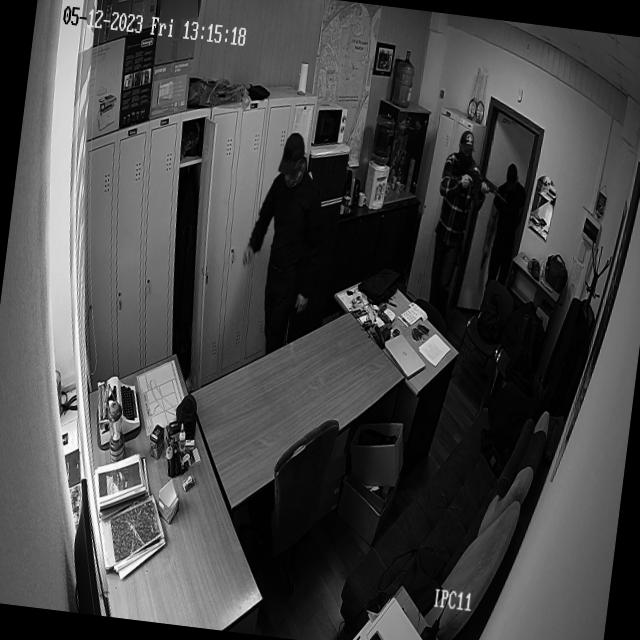gun: (447, 158, 509, 212), (476, 242, 491, 276)
person: (233, 117, 336, 320)
person with a gun: (422, 118, 494, 312), (478, 154, 526, 278)
